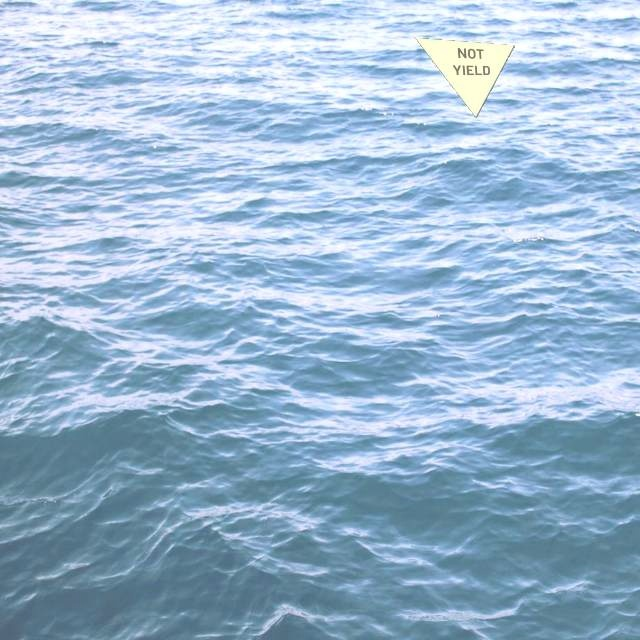NOT_YIELD: (414, 37, 515, 118)
